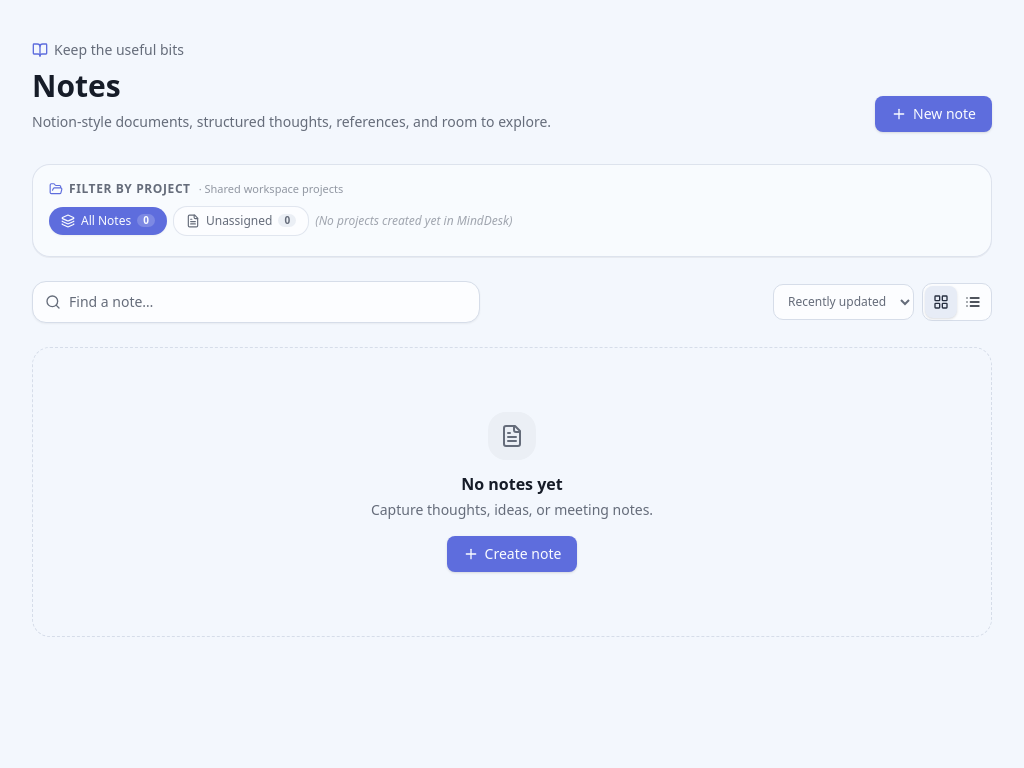
Scenario: MindDesk Notion-Style Notes & Document Editor › creates a new document and switches directly into NoteEditor
Click the button "New note" at [934, 114], box [875, 96, 992, 132]
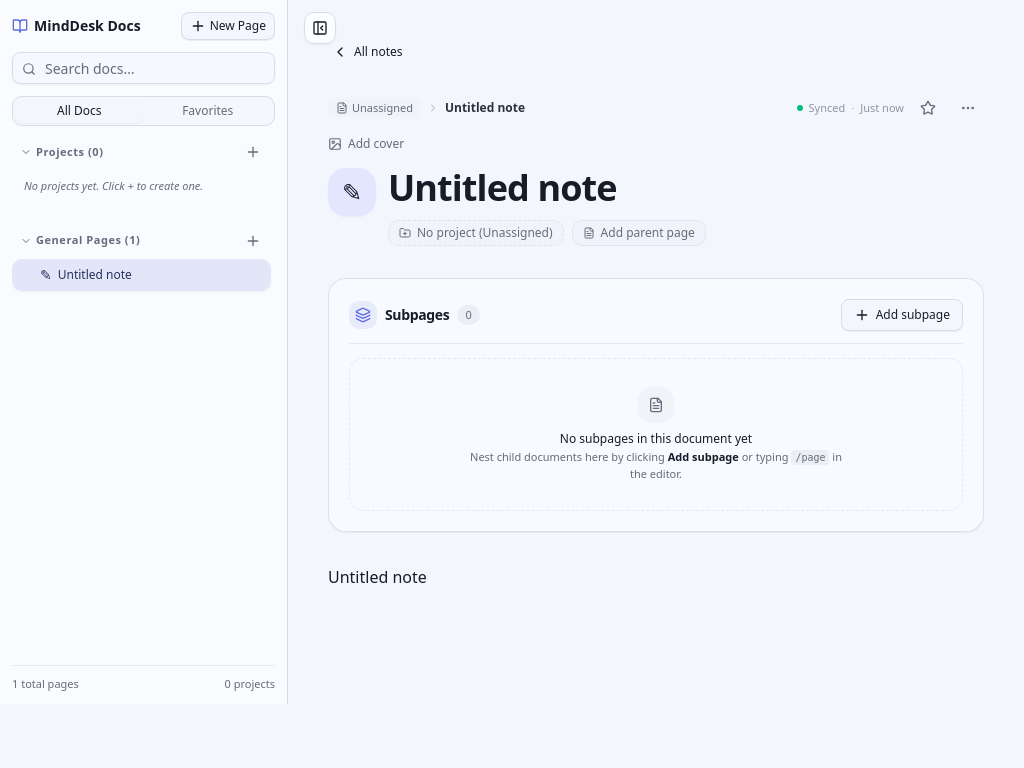
Expected: the button "All notes" is shown, [320, 36, 414, 68]
Expected: the field showing "Untitled note" is shown, [388, 168, 984, 208]
